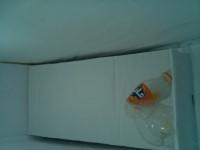bottle: (7, 3, 173, 145)
